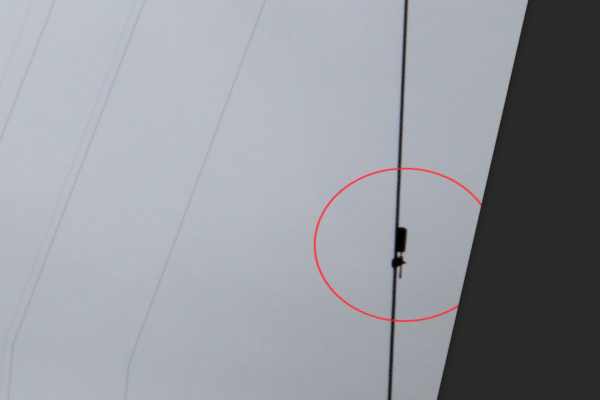damper_defect: (390, 225, 408, 282)
